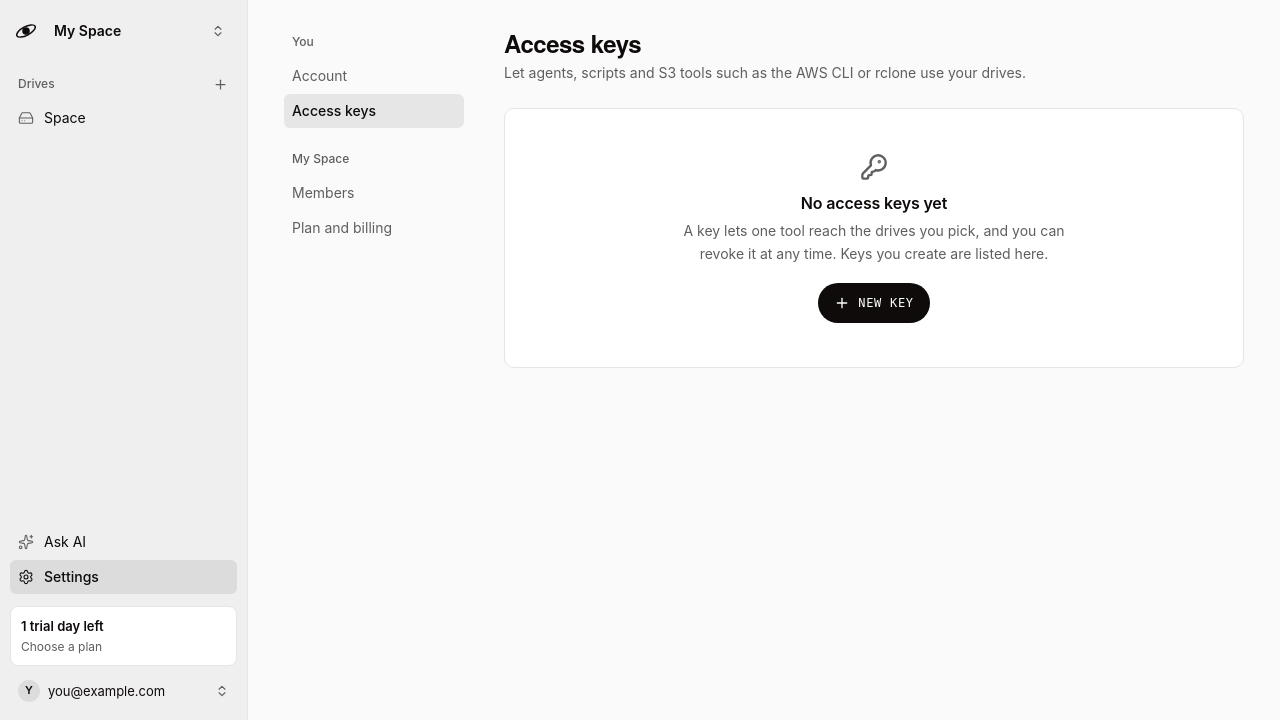
Scenario: offers only the access a role allows and asks for the workspace when there are several
The width and height of the screenshot is (1280, 720).
Step 1. Click the button "New key" → [874, 303], box [818,283,930,323]
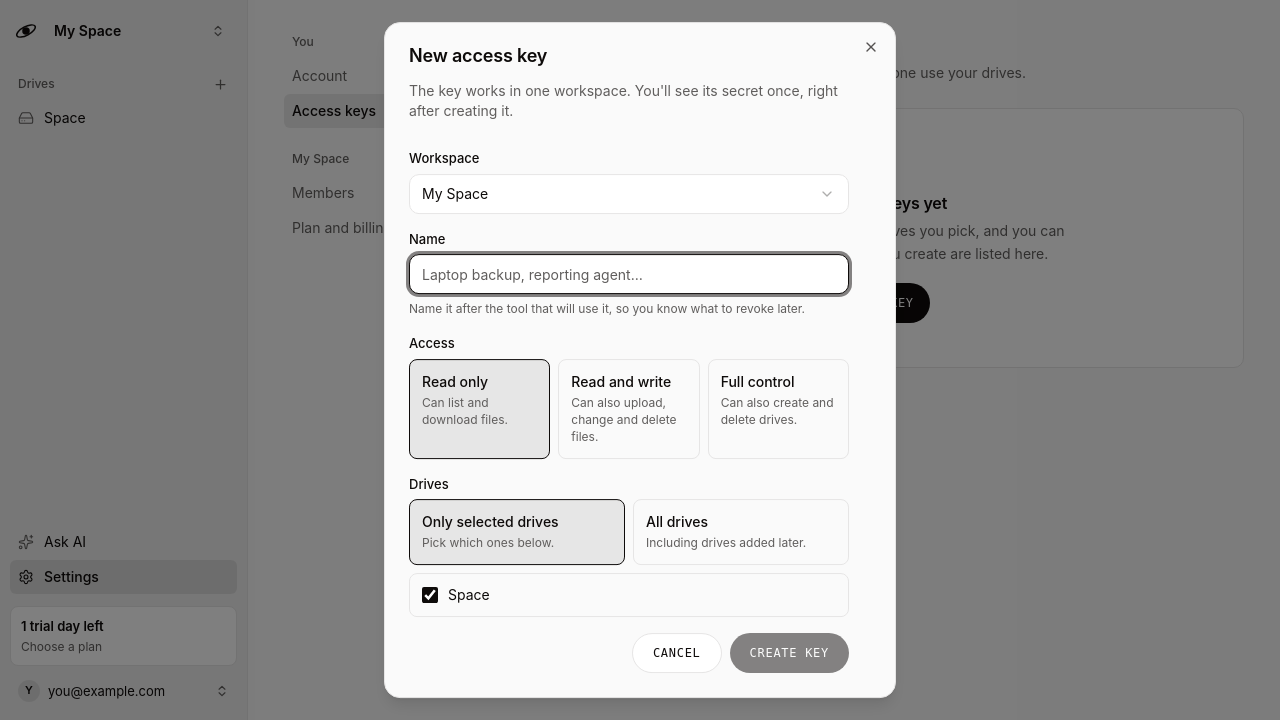
Step 2. Click the radio button labelled "All drives Including drives added later." → [741, 532], box [633,500,849,565]
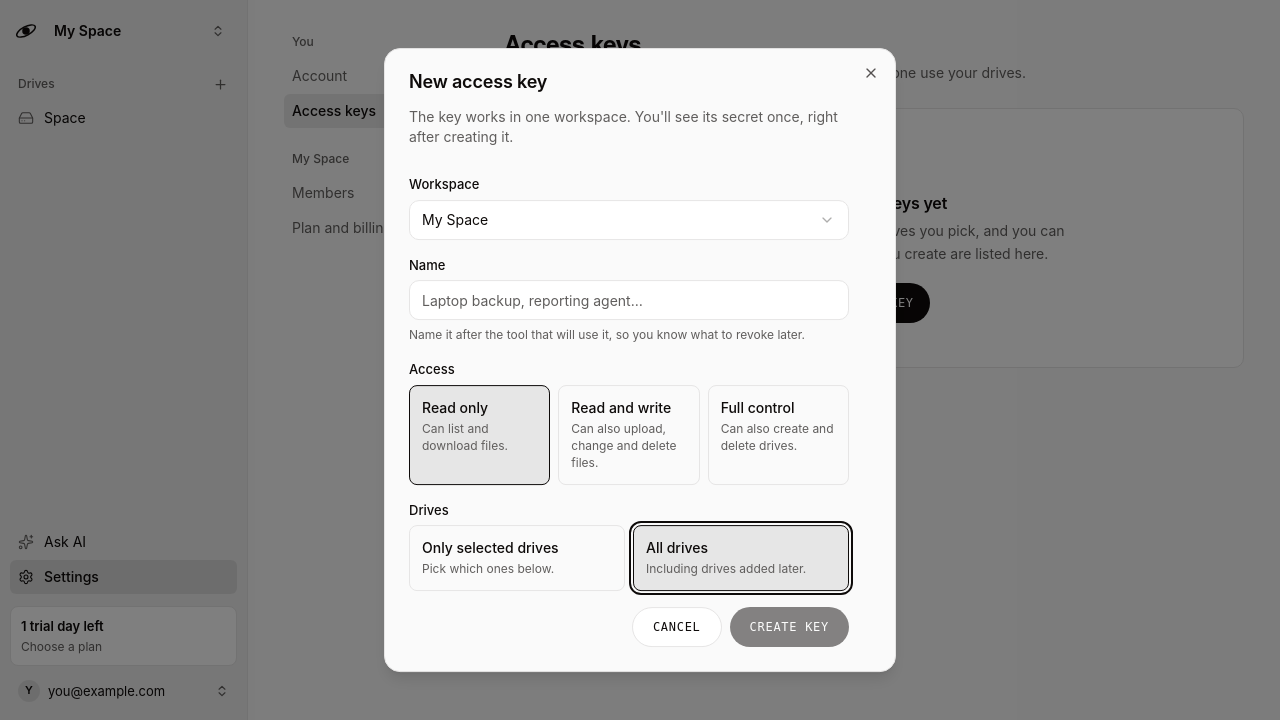
Step 3. Select "Client" in the dropdown labelled "Workspace" → [629, 220], box [409,200,849,240]
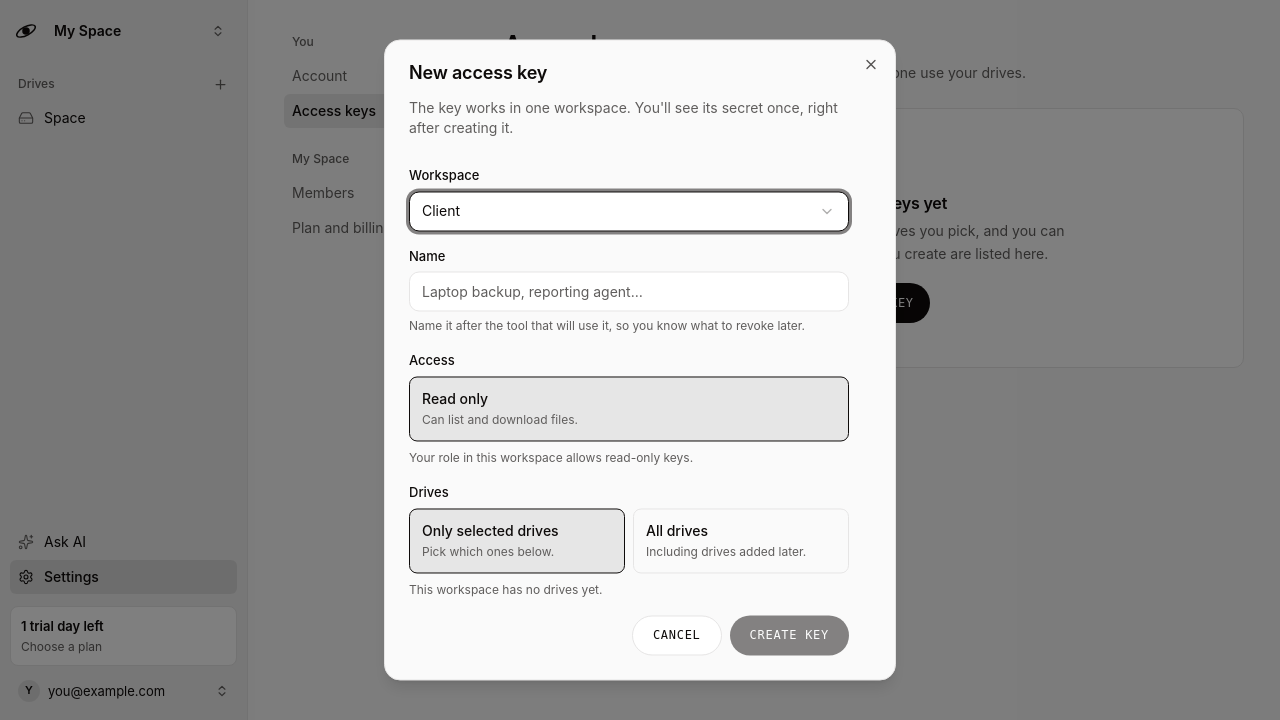
Expected: the radio button labelled "Read only Can list and download files." is checked, [409,376,849,442]
Expected: the button "Create key" is disabled, [730,616,849,656]
Expected: the radio button labelled "Only selected drives Pick which ones below." is checked, [409,508,625,574]
